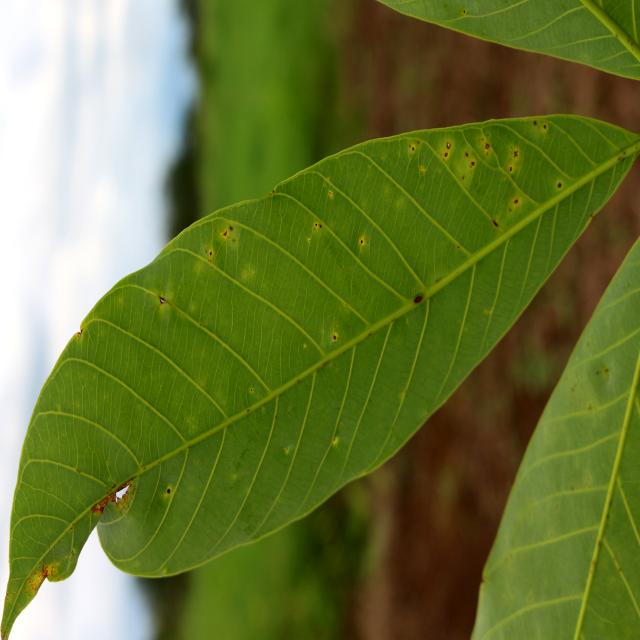Colletotrichum: (486, 144, 490, 149), (444, 152, 448, 157), (447, 142, 450, 148), (471, 162, 475, 166)
